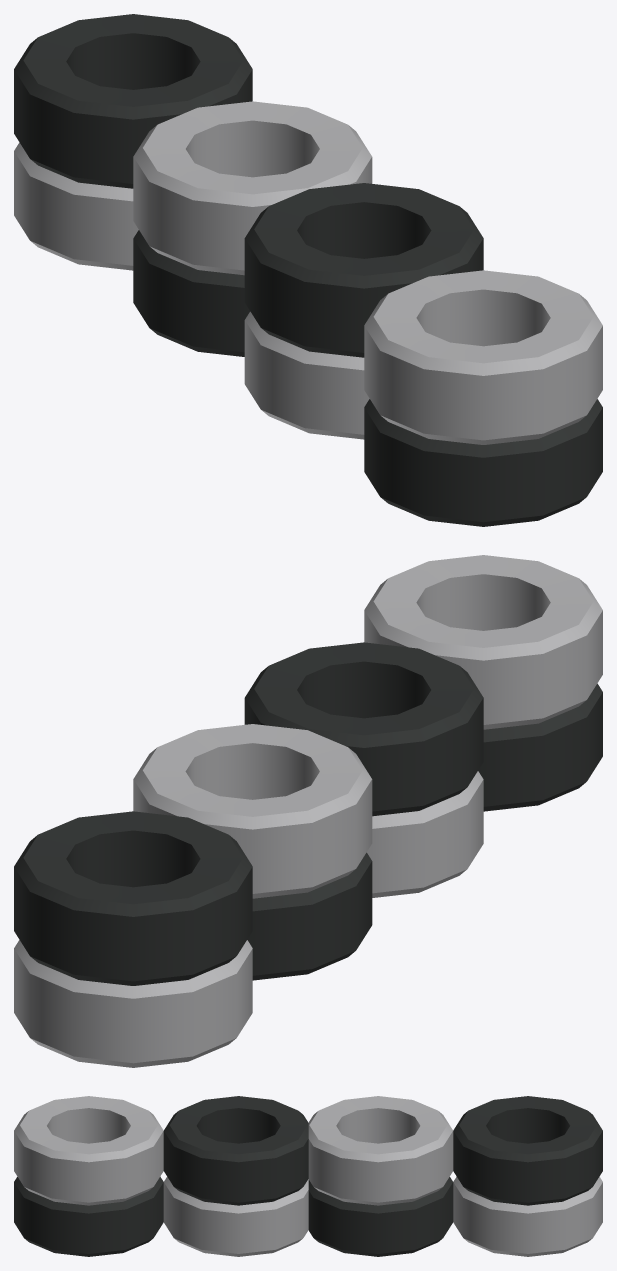
File: TireWall_1_B.fbx
3 views of the same model, one above another, from view 1: azimuth 30°, elevation 25°; view 2: azimuth 150°, elevation 25°; view 3: azimuth 270°, elevation 25° (orthographic). The views are drawn at different scales.
Parts seen in each view (by area): view 1: TireWall_1_B; view 2: TireWall_1_B; view 3: TireWall_1_B.
Part boxes in pixels (x1=…): TireWall_1_B: x1=14, y1=14, x2=602, y2=526; TireWall_1_B: x1=14, y1=555, x2=602, y2=1067; TireWall_1_B: x1=14, y1=1096, x2=602, y2=1256.
Bounding box in the file's own units: 87.39 × 66.08 × 344.
